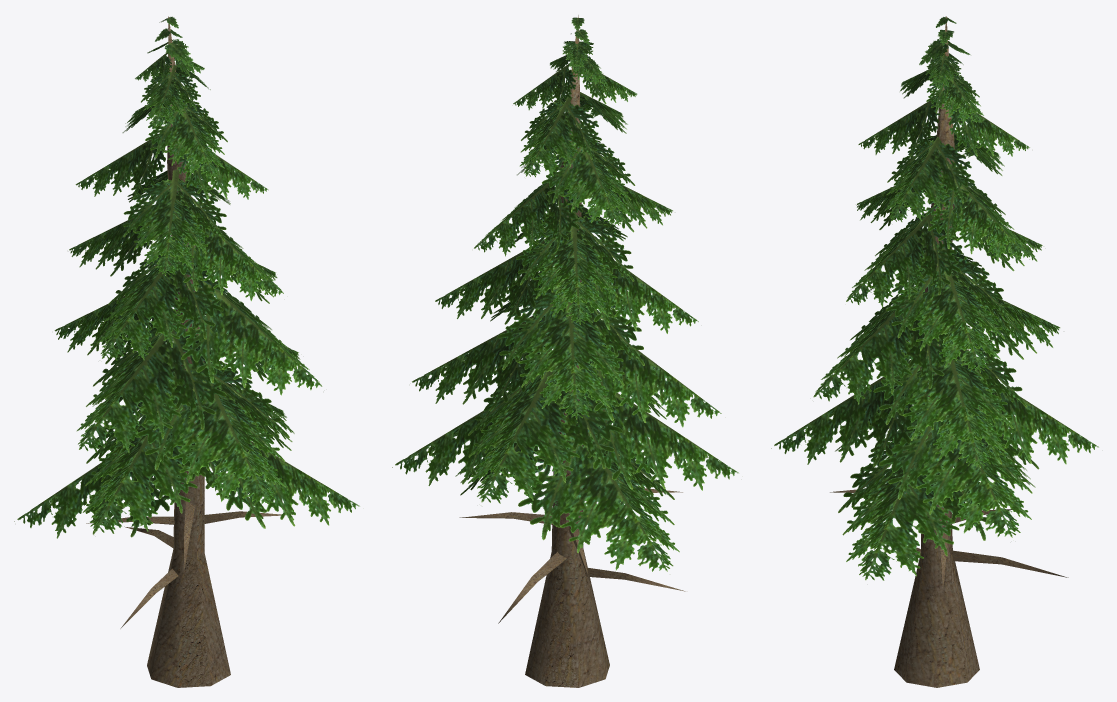
File: fir.glb
The picture shows the model from 3 angles, left to right: view 1: azimuth 30°, elevation 25°; view 2: azimuth 150°, elevation 25°; view 3: azimuth 270°, elevation 25°; orthographic projection. The views are drawn at different scales.
Parts seen in each view (by area): view 1: fir_branch.png__, fir_bark.png__; view 2: fir_branch.png__, fir_bark.png__; view 3: fir_branch.png__, fir_bark.png__.
Part boxes in pixels (x1,y1,x2,y2): fir_branch.png__: (14, 16, 359, 538); fir_bark.png__: (86, 16, 281, 687); fir_branch.png__: (392, 17, 738, 571); fir_bark.png__: (459, 15, 685, 687); fir_branch.png__: (771, 16, 1098, 580); fir_bark.png__: (830, 16, 1068, 687).
Bounding box in the file's own units: 6 × 11.88 × 5.51.
2 materials, 2 textured.
